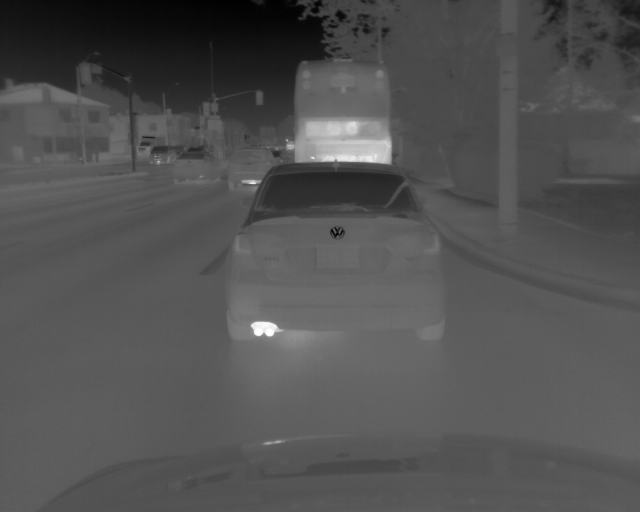car: (227, 161, 449, 344), (293, 59, 392, 166), (225, 147, 280, 187), (173, 150, 221, 184), (148, 146, 174, 166), (136, 136, 151, 156), (283, 136, 295, 154)
